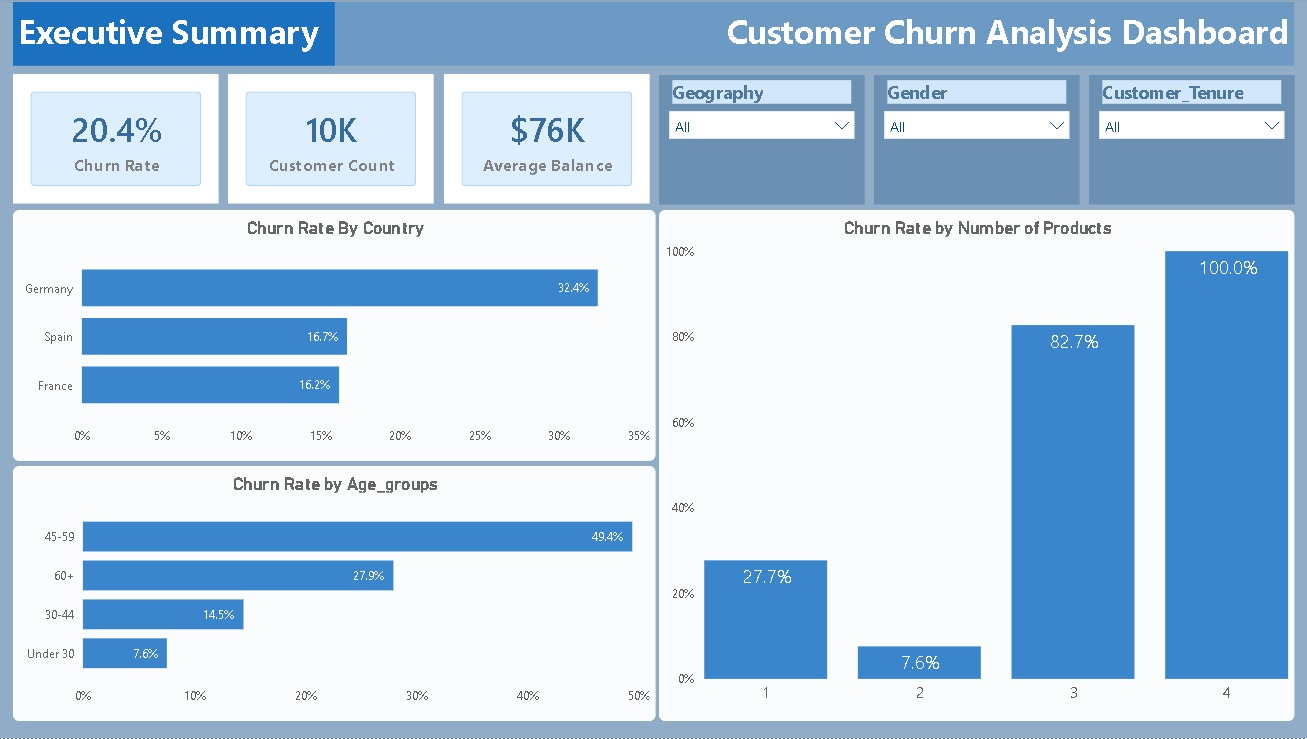

The page's visual inventory and layout, read from the dashboard file:
{"tool":"powerbi","page":{"name":"Page 1","canvas":[1280,720],"ordinal":0},"visuals":[{"type":"cardVisual","fields":{"Data":["customer-churn.Churn Rate"]},"box":[14.7,73.6,200,126],"z":0},{"type":"cardVisual","fields":{"Data":["CountNonNull(customer-churn.CustomerId)"]},"box":[224.1,73.6,200,126],"z":1000},{"type":"cardVisual","fields":{"Data":["Avg(customer-churn.Balance)"]},"box":[433.4,73.6,200,126],"z":2000},{"type":"slicer","fields":{"Values":["customer-churn.Geography"]},"box":[642.7,74.6,200,126],"z":3000},{"type":"slicer","fields":{"Values":["customer-churn.Gender"]},"box":[852.1,74.6,200,126],"z":4000},{"type":"slicer","fields":{"Values":["customer-churn.Cutomer_Tenure"]},"box":[1061.4,74.6,200,126],"z":5000},{"type":"barChart","title":"Churn Rate By Country","fields":{"Y":["customer-churn.Churn Rate"],"Category":["customer-churn.Geography"]},"box":[14.7,206,625.3,243.8],"z":6000},{"type":"barChart","fields":{"Y":["customer-churn.Churn Rate"],"Category":["customer-churn.Age_groups"]},"box":[14.7,455,625.3,248],"z":7000},{"type":"columnChart","title":"Churn Rate by Number of Products","fields":{"Y":["customer-churn.Churn Rate"],"Category":["customer-churn.NumOfProducts"]},"box":[643.2,206,617.9,497.1],"z":8000},{"type":"textbox","box":[14.7,4.2,1246.4,62],"z":9000},{"type":"textbox","box":[14.7,4.2,313.2,62],"z":10000}]}

Visuals, with their boxes in screenshot pixels (x1, y1, x2, y2), scaled from the page's 1280x720 canvas onto the 1307x739 screenshot:
cardVisual - customer-churn.Churn Rate: (x1=15, y1=76, x2=219, y2=205)
cardVisual - CountNonNull(customer-churn.CustomerId): (x1=229, y1=76, x2=433, y2=205)
cardVisual - Avg(customer-churn.Balance): (x1=443, y1=76, x2=647, y2=205)
slicer - customer-churn.Geography: (x1=656, y1=77, x2=860, y2=206)
slicer - customer-churn.Gender: (x1=870, y1=77, x2=1074, y2=206)
slicer - customer-churn.Cutomer_Tenure: (x1=1084, y1=77, x2=1288, y2=206)
"Churn Rate By Country" barChart: (x1=15, y1=211, x2=654, y2=462)
barChart - customer-churn.Churn Rate x customer-churn.Age_groups: (x1=15, y1=467, x2=654, y2=722)
"Churn Rate by Number of Products" columnChart: (x1=657, y1=211, x2=1288, y2=722)
textbox: (x1=15, y1=4, x2=1288, y2=68)
textbox: (x1=15, y1=4, x2=335, y2=68)
